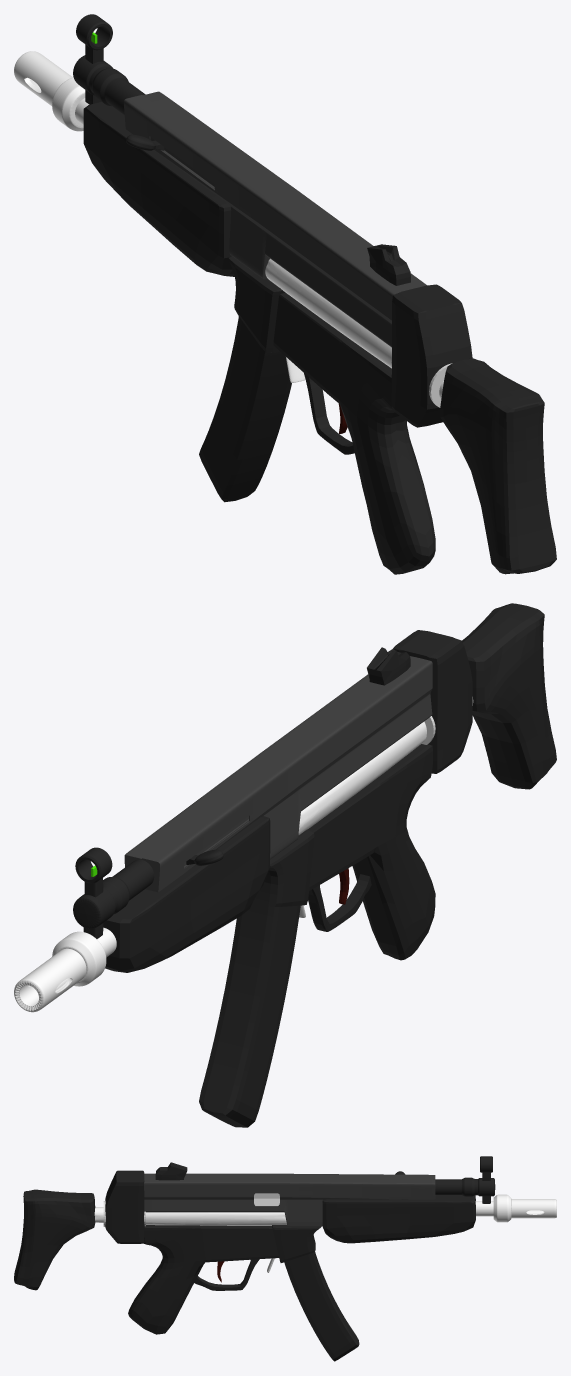
3 views of the same model, one above another, from view 1: azimuth 30°, elevation 25°; view 2: azimuth 150°, elevation 25°; view 3: azimuth 270°, elevation 25° (orthographic). The views are drawn at different scales.
Parts seen in each view (by area): view 1: Cube.005, Cube, Cube.004, Cube.002, Cube.006, Cube.003, Cylinder.003, Cylinder, Cube.001, Cylinder.002, Cube.010, Cube.007 (+1 smaller); view 2: Cube.005, Cube, Cube.006, Cube.004, Cube.002, Cube.003, Cylinder.003, Cube.001, Cylinder, Cylinder.002, Cube.010, Cube.007 (+1 smaller); view 3: Cube.005, Cube, Cube.002, Cube.004, Cube.006, Cube.003, Cylinder, Cylinder.003, Cube.001, Cylinder.002, Cube.010, Cube.007 (+1 smaller).
Boxes of the visible parts, x1=… form: Cube.005: x1=124, y1=91, x2=426, y2=347; Cube: x1=273, y1=292, x2=435, y2=574; Cube.004: x1=440, y1=358, x2=556, y2=574; Cube.002: x1=83, y1=102, x2=234, y2=276; Cube.006: x1=199, y1=316, x2=291, y2=502; Cube.003: x1=391, y1=284, x2=472, y2=427; Cylinder.003: x1=14, y1=51, x2=89, y2=131; Cylinder: x1=265, y1=258, x2=443, y2=398; Cube.001: x1=228, y1=256, x2=285, y2=352; Cylinder.002: x1=73, y1=55, x2=145, y2=114; Cube.010: x1=304, y1=373, x2=354, y2=454; Cube.007: x1=367, y1=244, x2=410, y2=285; Cube.005: x1=124, y1=656, x2=432, y2=892; Cube: x1=308, y1=744, x2=435, y2=960; Cube.006: x1=199, y1=902, x2=300, y2=1127; Cube.004: x1=462, y1=603, x2=556, y2=789; Cube.002: x1=83, y1=816, x2=270, y2=972; Cube.003: x1=393, y1=630, x2=472, y2=773; Cylinder.003: x1=14, y1=927, x2=116, y2=1012; Cube.001: x1=253, y1=829, x2=314, y2=906; Cylinder: x1=298, y1=721, x2=426, y2=834; Cylinder.002: x1=73, y1=859, x2=154, y2=928; Cube.010: x1=308, y1=874, x2=371, y2=931; Cube.007: x1=367, y1=647, x2=410, y2=685; Cube.005: x1=144, y1=1173, x2=435, y2=1226; Cube: x1=128, y1=1225, x2=278, y2=1334; Cube.002: x1=322, y1=1195, x2=475, y2=1243; Cube.004: x1=14, y1=1189, x2=95, y2=1290; Cube.006: x1=284, y1=1252, x2=359, y2=1361; Cube.003: x1=105, y1=1170, x2=144, y2=1243; Cylinder: x1=94, y1=1207, x2=286, y2=1225; Cylinder.003: x1=475, y1=1194, x2=556, y2=1222; Cube.001: x1=272, y1=1225, x2=321, y2=1262; Cylinder.002: x1=435, y1=1177, x2=495, y2=1196; Cube.010: x1=194, y1=1259, x2=259, y2=1290; Cube.007: x1=155, y1=1162, x2=187, y2=1180.
Bounding box in the file's own units: 39.02 × 190 × 461.
